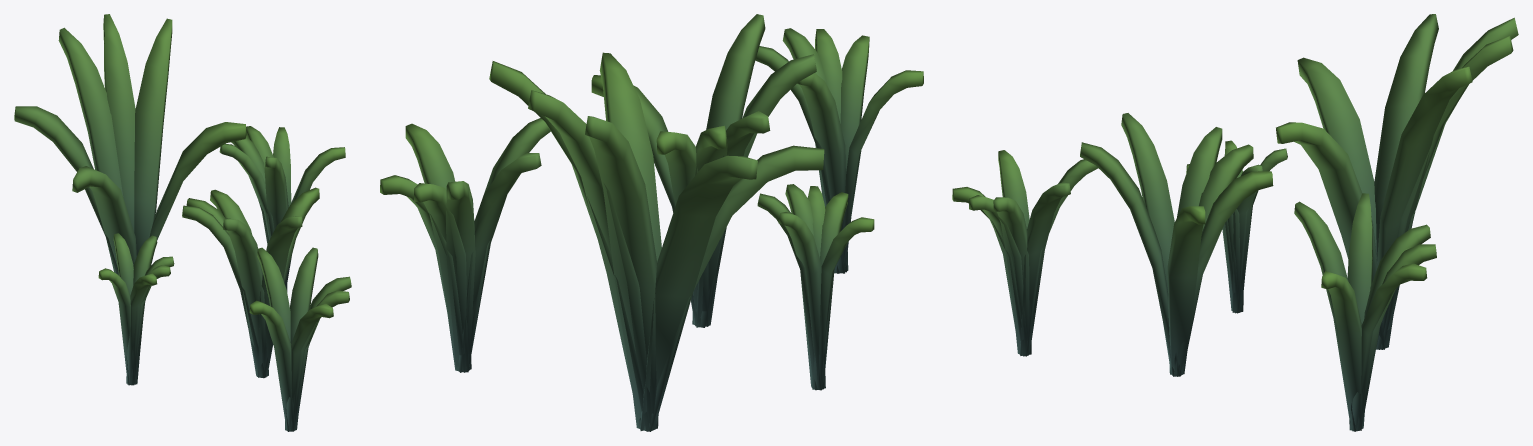
Rendered from Grass_02.fbx.
3 views of the same model, side by side, from view 1: azimuth 30°, elevation 25°; view 2: azimuth 150°, elevation 25°; view 3: azimuth 270°, elevation 25° (orthographic). The views are drawn at different scales.
Parts seen in each view (by area): view 1: Grass_02; view 2: Grass_02; view 3: Grass_02.
Part boxes in pixels (box(x1,y1,x2,y2)): Grass_02: box(14, 14, 351, 431); Grass_02: box(380, 14, 923, 431); Grass_02: box(952, 14, 1518, 431).
Size of the model in its own units: 82.37 by 73.08 by 115.
